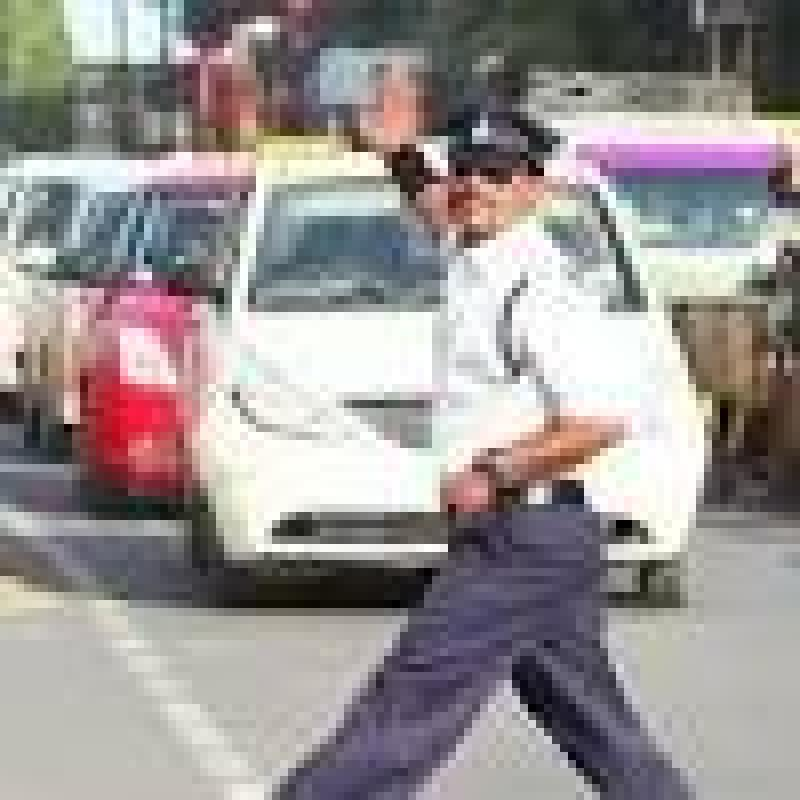car: (157, 148, 714, 614)
